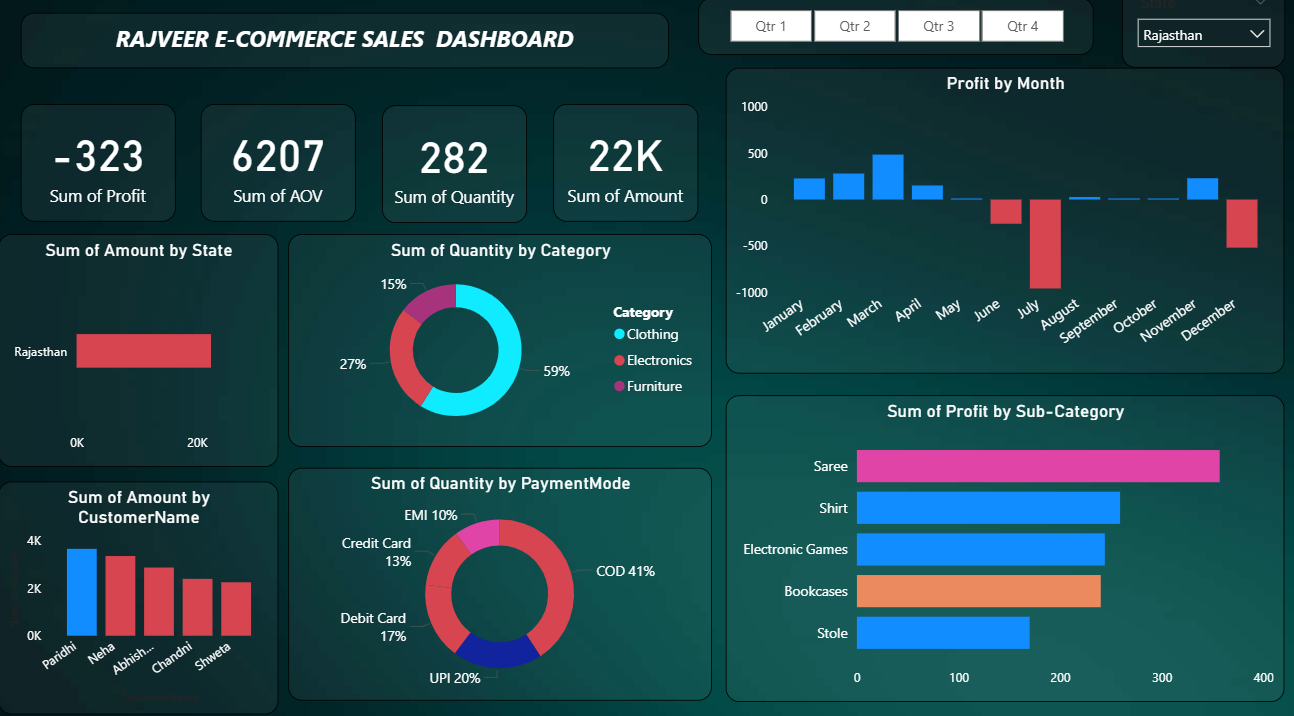

The page's visual inventory and layout, read from the dashboard file:
{"tool":"powerbi","page":{"name":"Page 1","canvas":[1280,720],"ordinal":0},"visuals":[{"type":"columnChart","title":" Profit by Month","fields":{"Y":["Sum(Details.Profit)"],"Category":["Orders.Order Date.Variation.Date Hierarchy.Month"]},"box":[713.6,81,539.3,295],"z":0},{"type":"barChart","fields":{"Category":["Details.Sub-Category"],"Y":["Sum(Details.Profit)"]},"box":[713.6,396.6,539.3,296.4],"z":1000},{"type":"donutChart","fields":{"Category":["Details.Category"],"Y":["Sum(Details.Quantity)"]},"box":[290.9,241.5,408.9,205.8],"z":2000},{"type":"donutChart","fields":{"Category":["Details.PaymentMode"],"Y":["Sum(Details.Quantity)"]},"box":[290.9,466.6,408.9,225],"z":3000},{"type":"card","fields":{"Values":["Sum(Details.Amount)"]},"box":[546.1,115.3,140,113.9],"z":4000},{"type":"card","fields":{"Values":["Sum(Details.Quantity)"]},"box":[381.5,116.6,140,113.9],"z":5000},{"type":"card","fields":{"Values":["Sum(Details.AOV)"]},"box":[205.8,115.3,149.6,113.9],"z":6000},{"type":"card","fields":{"Values":["Sum(Details.Profit)"]},"box":[32.9,115.3,149.6,113.9],"z":7000},{"type":"barChart","fields":{"Category":["Orders.State"],"Y":["Sum(Details.Amount)"]},"box":[11,241.5,270.3,225],"z":8000},{"type":"columnChart","fields":{"Category":["Orders.CustomerName"],"Y":["Sum(Details.Amount)"]},"box":[11,480.3,270.3,225],"z":9000},{"type":"textbox","box":[32.9,27.4,625.7,53.5],"z":10000},{"type":"slicer","fields":{"Values":["Orders.Order Date.Variation.Date Hierarchy.Quarter"]},"box":[686.1,13.7,381.5,54.9],"z":11000},{"type":"slicer","fields":{"Values":["Orders.State"]},"box":[1095,0,157.8,81],"z":12000}]}

Visuals, with their boxes in screenshot pixels (x1, y1, x2, y2), scaled from the page's 1280x720 canvas onto the 1294x716 screenshot:
" Profit by Month" columnChart: select_region(721, 81, 1267, 374)
barChart - Details.Sub-Category x Sum(Details.Profit): select_region(721, 394, 1267, 689)
donutChart - Details.Category x Sum(Details.Quantity): select_region(294, 240, 707, 445)
donutChart - Details.PaymentMode x Sum(Details.Quantity): select_region(294, 464, 707, 688)
card - Sum(Details.Amount): select_region(552, 115, 694, 228)
card - Sum(Details.Quantity): select_region(386, 116, 527, 229)
card - Sum(Details.AOV): select_region(208, 115, 359, 228)
card - Sum(Details.Profit): select_region(33, 115, 184, 228)
barChart - Orders.State x Sum(Details.Amount): select_region(11, 240, 284, 464)
columnChart - Orders.CustomerName x Sum(Details.Amount): select_region(11, 478, 284, 701)
textbox: select_region(33, 27, 666, 80)
slicer - Orders.Order Date.Variation.Date Hierarchy.Quarter: select_region(694, 14, 1079, 68)
slicer - Orders.State: select_region(1107, 0, 1267, 81)
